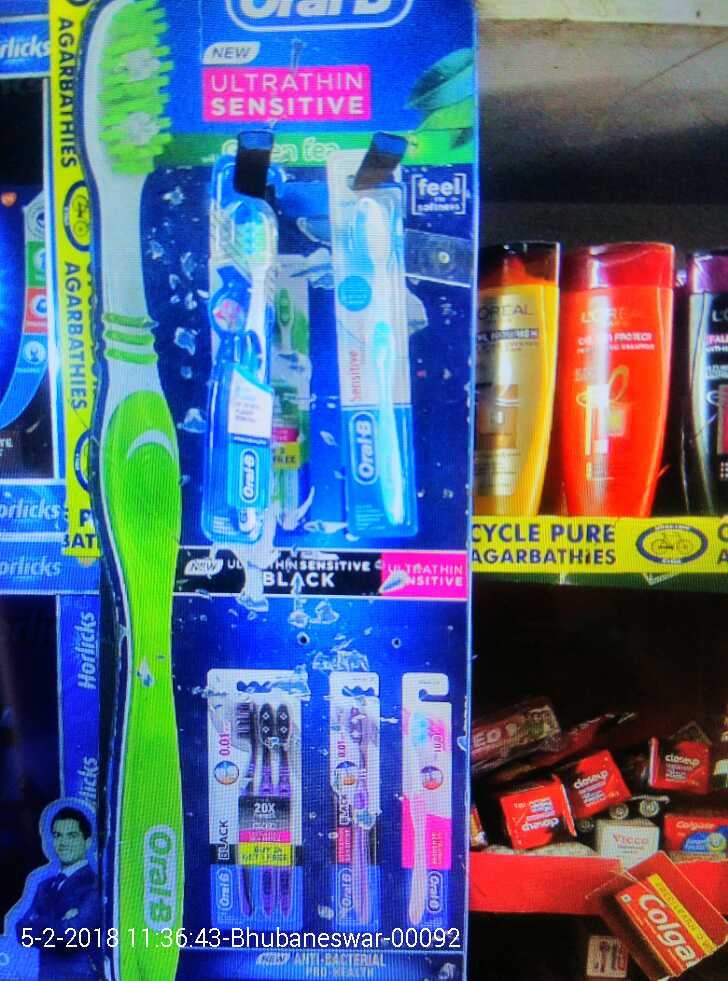oralb: (333, 197, 419, 546), (202, 186, 275, 542), (207, 673, 300, 927), (399, 669, 462, 933), (327, 672, 380, 930)
